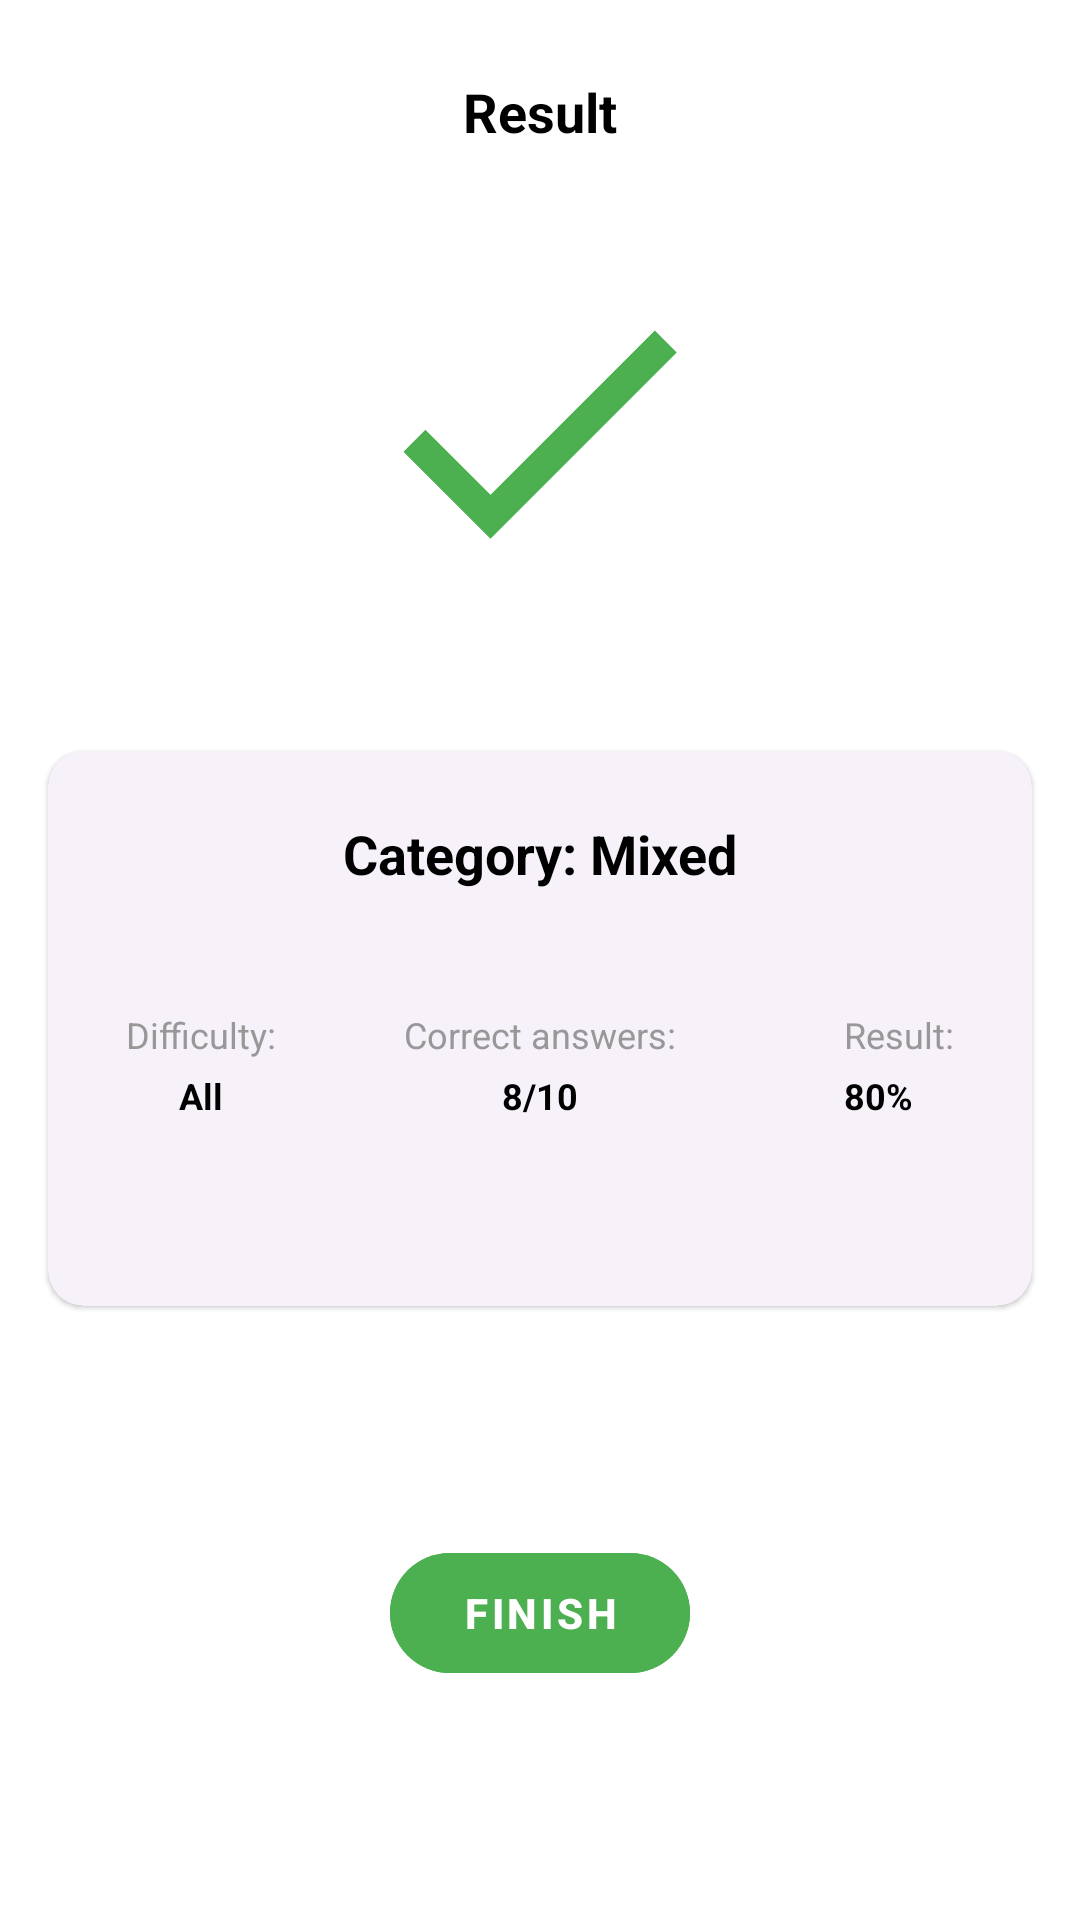

Locate icon controls on the screen. Image size 1080w x 1920h, boxes as {"x1": x1, "y1": y1, "x2": x2, "y2": y2}.
Icon check mark: {"x1": 403, "y1": 331, "x2": 677, "y2": 539}
